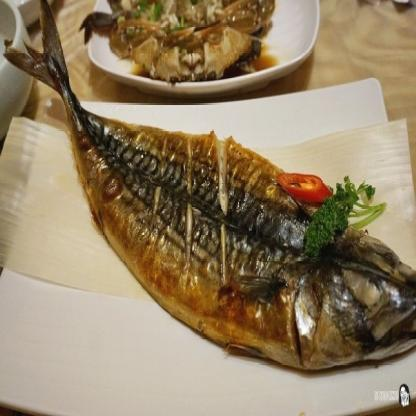Peixe: (11, 23, 416, 374)
